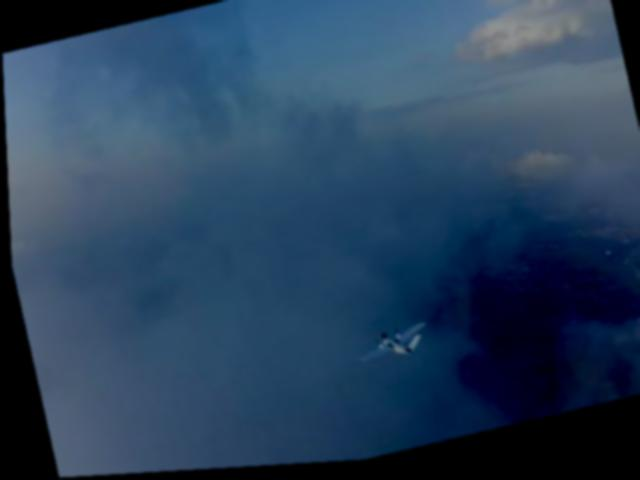uav: (344, 319, 431, 373)
